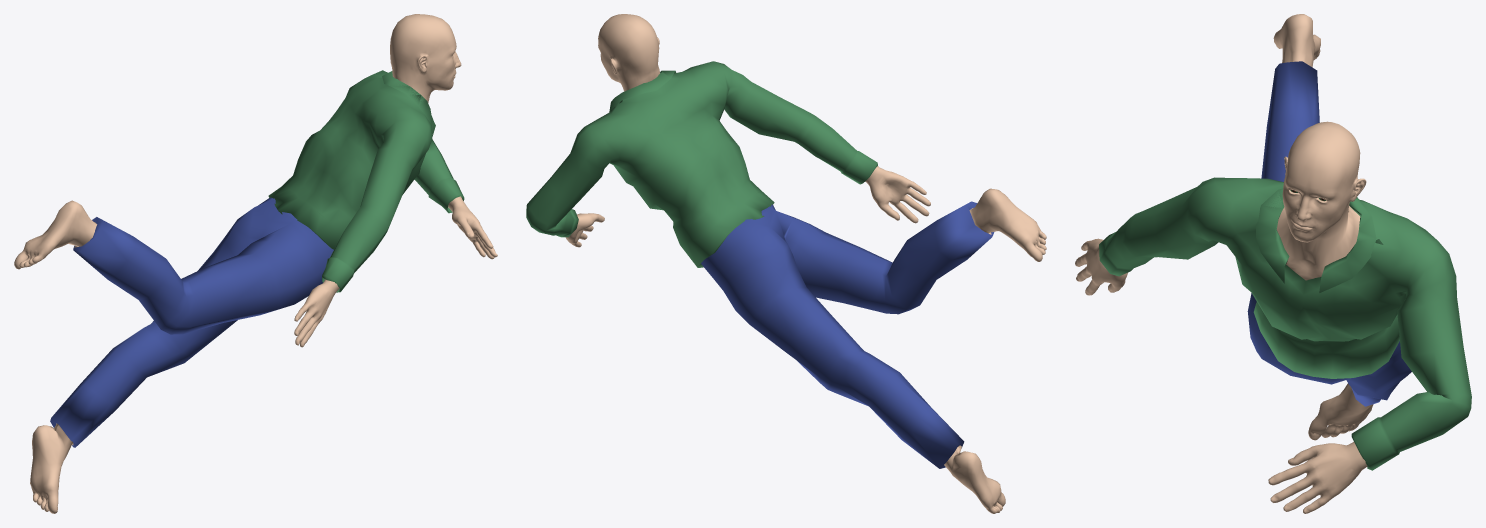
The model's file is float2_green.dae.
3 views of the same model, side by side, from view 1: azimuth 30°, elevation 25°; view 2: azimuth 150°, elevation 25°; view 3: azimuth 270°, elevation 25° (orthographic). The views are drawn at different scales.
Parts seen in each view (by area): view 1: human; view 2: human; view 3: human.
Boxes of the visible parts, x1,y1,x2,y2 form: human: (14,14,497,513); human: (526,14,1046,513); human: (1075,14,1471,513).
Bounding box in the file's own units: 1.54 × 0.8076 × 1.26.
